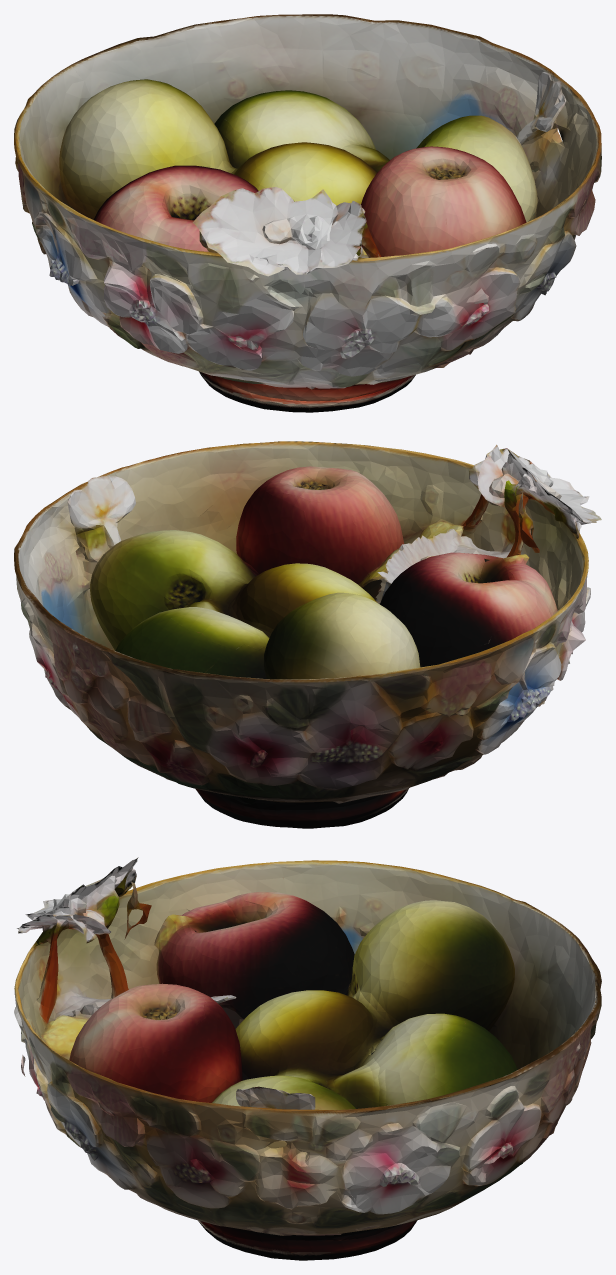
The model's file is ceramic-fruit-bowl-japanese.jpeg.glb.
The picture shows the model from 3 angles, top to bottom: view 1: azimuth 30°, elevation 25°; view 2: azimuth 150°, elevation 25°; view 3: azimuth 270°, elevation 25°; orthographic projection. The views are drawn at different scales.
Parts seen in each view (by area): view 1: world; view 2: world; view 3: world.
Part boxes in pixels (x1,y1,x2,y2): world: (14, 14, 601, 412); world: (14, 441, 601, 828); world: (14, 857, 601, 1260).
Bounding box in the file's own units: 0.9961 × 0.532 × 0.9945.
Materials: 1 (1 with a texture image).
